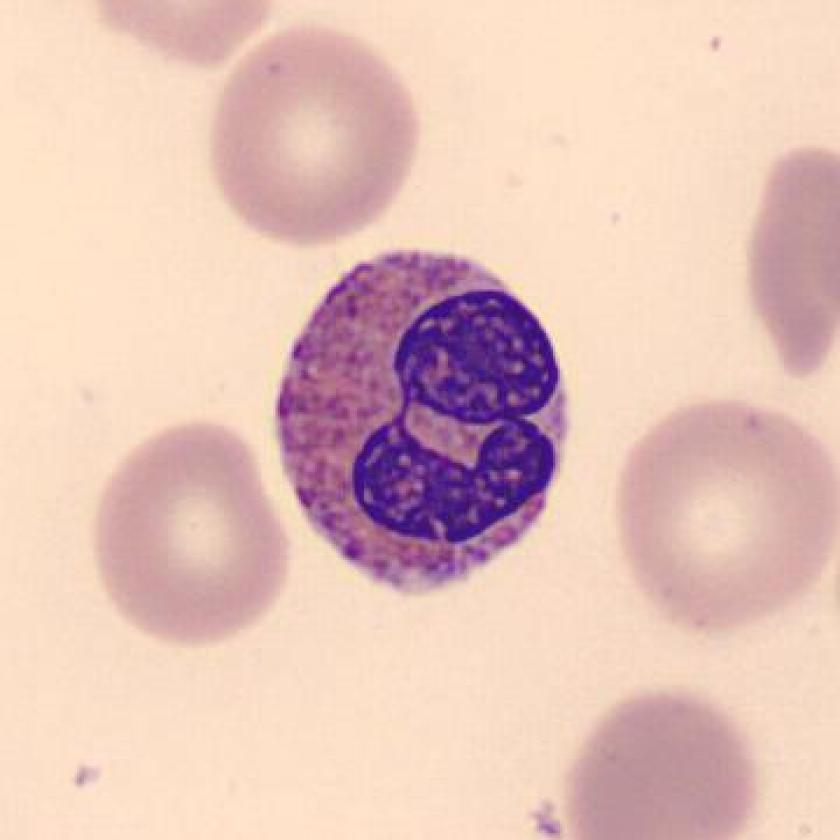eosinophil: (262, 237, 580, 617)
